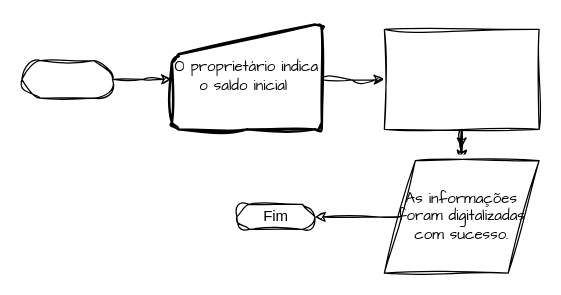
Some shapes in this 561 by 295 pixel diagram are drawn without their labels. Each missing label, with the box of its shape:
Início: (21, 59, 112, 98)
O sistema digitaliza o horário, dia e saldo de abertura do caixa.: (383, 28, 539, 129)
